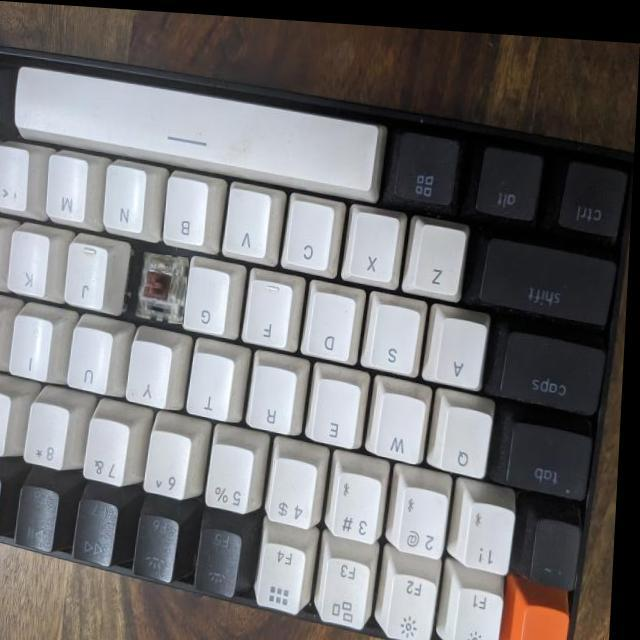key-switch: (132, 250, 191, 321)
